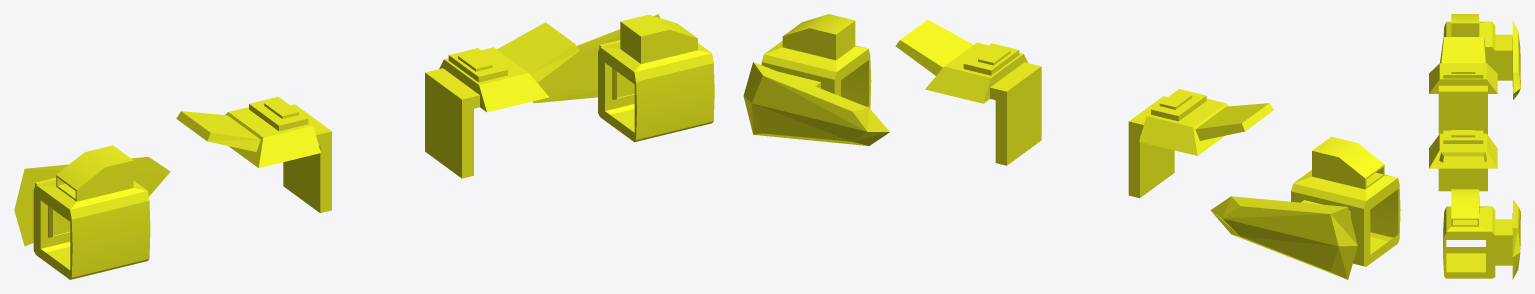
The model's file is armar_arm.FBX.
3 views of the same model, side by side, from view 1: azimuth 30°, elevation 25°; view 2: azimuth 150°, elevation 25°; view 3: azimuth 270°, elevation 25° (orthographic). The views are drawn at different scales.
Parts seen in each view (by area): view 1: Box056; view 2: Box056; view 3: Box056.
Boxes of the visible parts, bbox=[...] form: Box056: bbox=[14, 14, 714, 279]; Box056: bbox=[743, 14, 1400, 279]; Box056: bbox=[1429, 14, 1520, 279].
Size of the model in its own units: 62.86 by 10.84 by 11.38.
